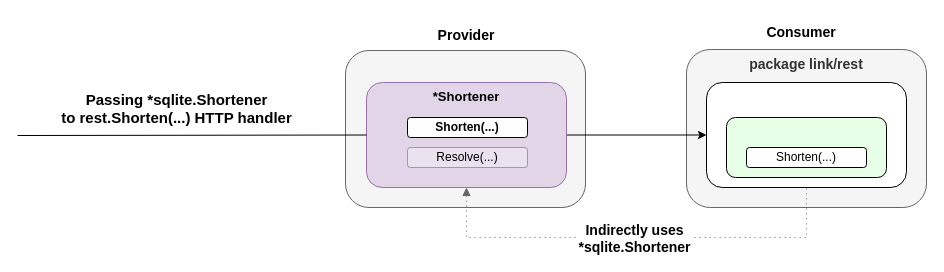
This 944x272 diagram has some shape labels left out. The box of each missing label's shape, as (x1, y1, x2, y2) in pixels:
package link/sqlite: (344, 50, 586, 208)
Shorten(...) HTTP handler: (706, 82, 906, 188)
Shortener Interface: (726, 116, 886, 178)
